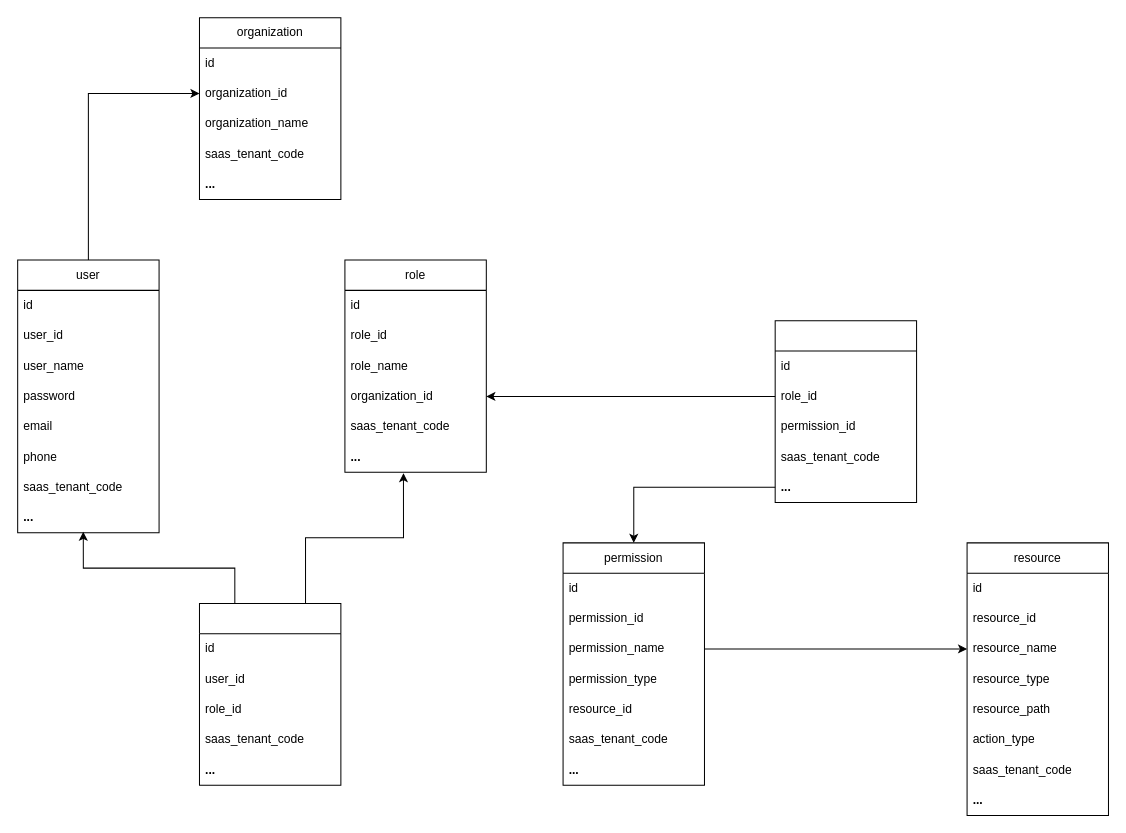
The diagram is 1126 pixels wide and 833 high, and some of its shapes have lost their labels. Each missing label, with the box of its shape:
role_permission: (774, 320, 917, 502)
user_role: (198, 602, 341, 785)
